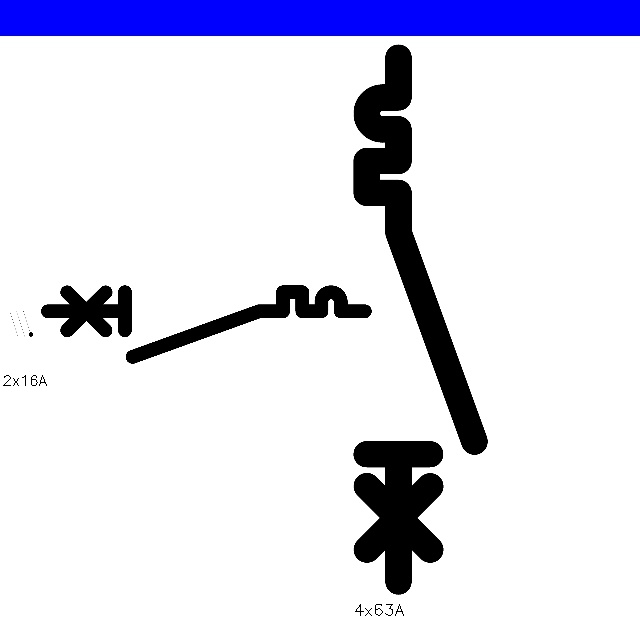interruptor_termomagnetico: (353, 44, 488, 595), (39, 284, 372, 365)
